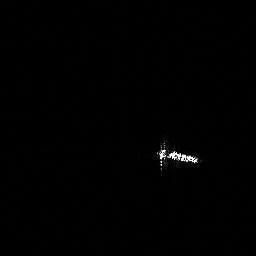ship: (149, 141, 200, 174)
